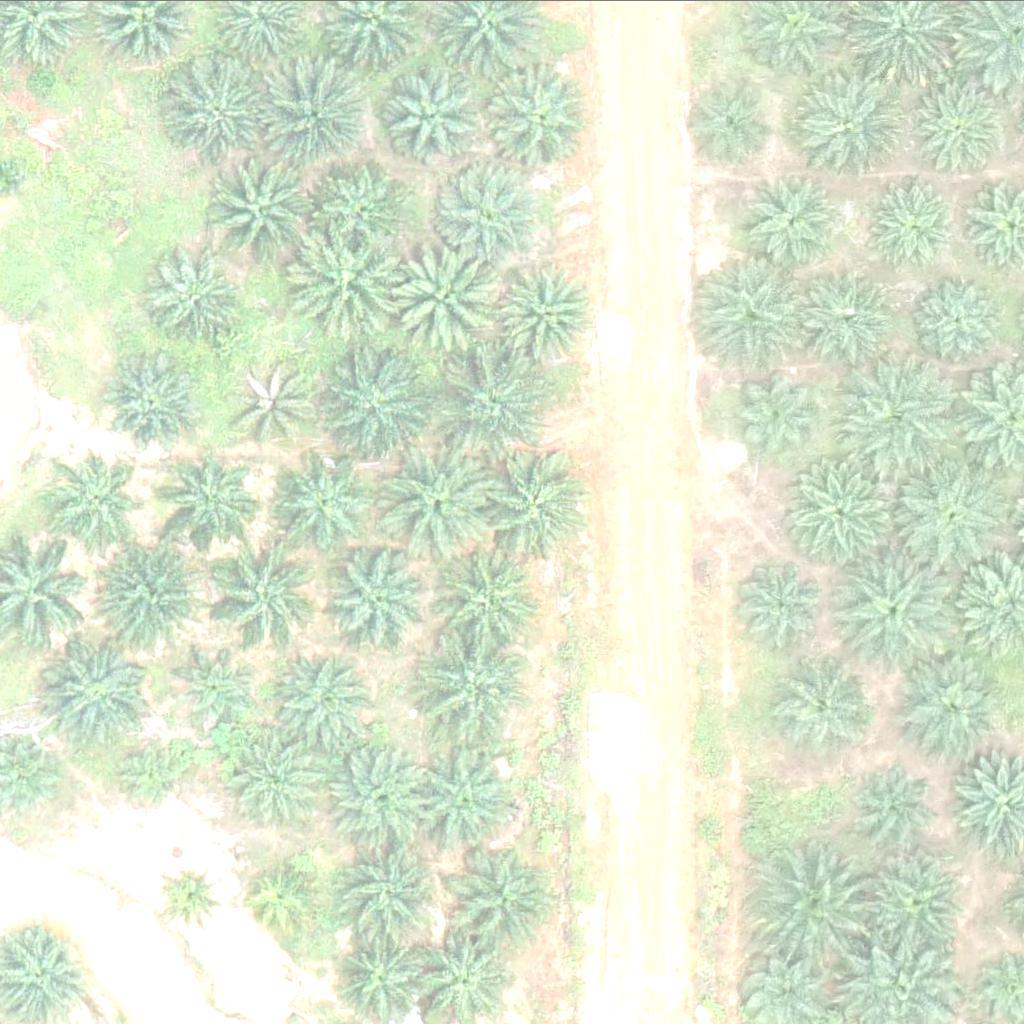Kelapa_Sawit: (481, 56, 595, 169), (846, 357, 959, 470), (787, 459, 900, 572), (794, 74, 907, 187), (260, 57, 373, 170), (481, 445, 594, 558), (44, 638, 157, 751), (322, 740, 435, 853), (410, 743, 523, 856), (449, 841, 562, 954), (893, 461, 1007, 573), (688, 258, 802, 370), (202, 534, 316, 646), (419, 636, 533, 748), (836, 548, 949, 660), (765, 846, 878, 958), (204, 153, 317, 265), (287, 230, 400, 342), (385, 243, 498, 355), (440, 341, 553, 453), (319, 345, 432, 457), (381, 447, 494, 559), (438, 546, 551, 658), (99, 543, 212, 655), (730, 554, 831, 654), (903, 659, 1004, 759), (863, 852, 964, 952), (800, 268, 901, 368), (390, 64, 491, 164), (434, 163, 535, 263), (145, 249, 246, 349), (165, 453, 266, 553), (327, 551, 428, 651), (278, 651, 379, 751), (344, 843, 445, 943), (780, 655, 880, 755), (859, 176, 959, 276), (735, 169, 835, 269), (175, 61, 275, 161), (497, 264, 597, 364), (100, 352, 200, 452), (269, 453, 369, 553), (226, 728, 326, 828), (685, 77, 773, 165), (913, 84, 1001, 172), (318, 165, 406, 253), (172, 640, 260, 728), (733, 366, 821, 453), (854, 759, 942, 846), (918, 271, 1006, 358), (231, 356, 319, 443), (61, 454, 149, 541), (111, 736, 186, 811), (249, 860, 324, 935), (162, 863, 225, 926)
